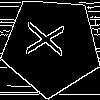X: (26, 21, 73, 58)
